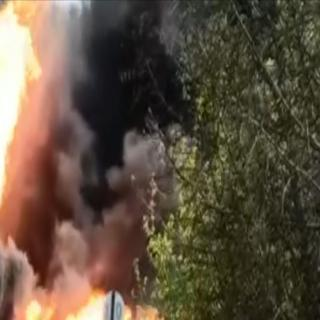smoke: (41, 21, 206, 284), (0, 283, 22, 320)
